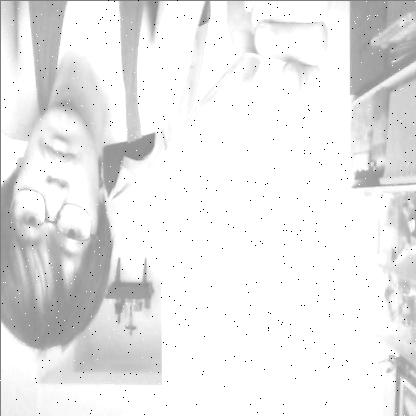Plastic Bottle: (162, 40, 296, 303)
